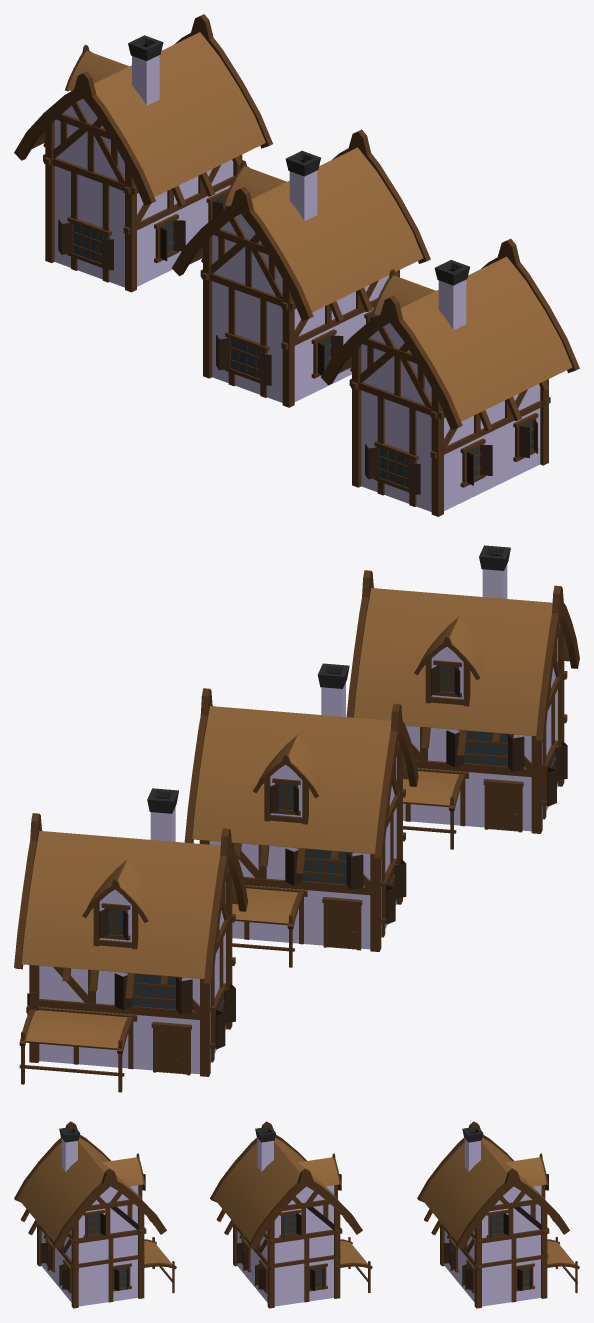
File: houserow_west.obj
The picture shows the model from 3 angles, top to bottom: view 1: azimuth 30°, elevation 25°; view 2: azimuth 150°, elevation 25°; view 3: azimuth 270°, elevation 25°; orthographic projection. The views are drawn at different scales.
Parts seen in each view (by area): view 1: pCube6453_Untitled.002, pCube6453_Untitled.004, pCube6453_Untitled.003; view 2: pCube6453_Untitled.004, pCube6453_Untitled.003, pCube6453_Untitled.002; view 3: pCube6453_Untitled.002, pCube6453_Untitled.004, pCube6453_Untitled.003.
Boxes of the visible parts, <box> form: pCube6453_Untitled.002: <box>321,238,579,516</box>; pCube6453_Untitled.004: <box>14,14,272,292</box>; pCube6453_Untitled.003: <box>172,129,430,407</box>; pCube6453_Untitled.004: <box>14,788,247,1092</box>; pCube6453_Untitled.003: <box>184,663,418,967</box>; pCube6453_Untitled.002: <box>346,545,579,849</box>; pCube6453_Untitled.002: <box>14,1121,176,1308</box>; pCube6453_Untitled.004: <box>417,1121,579,1308</box>; pCube6453_Untitled.003: <box>210,1121,372,1308</box>.
Size of the model in its own units: 12.15 by 12.69 by 44.57.
